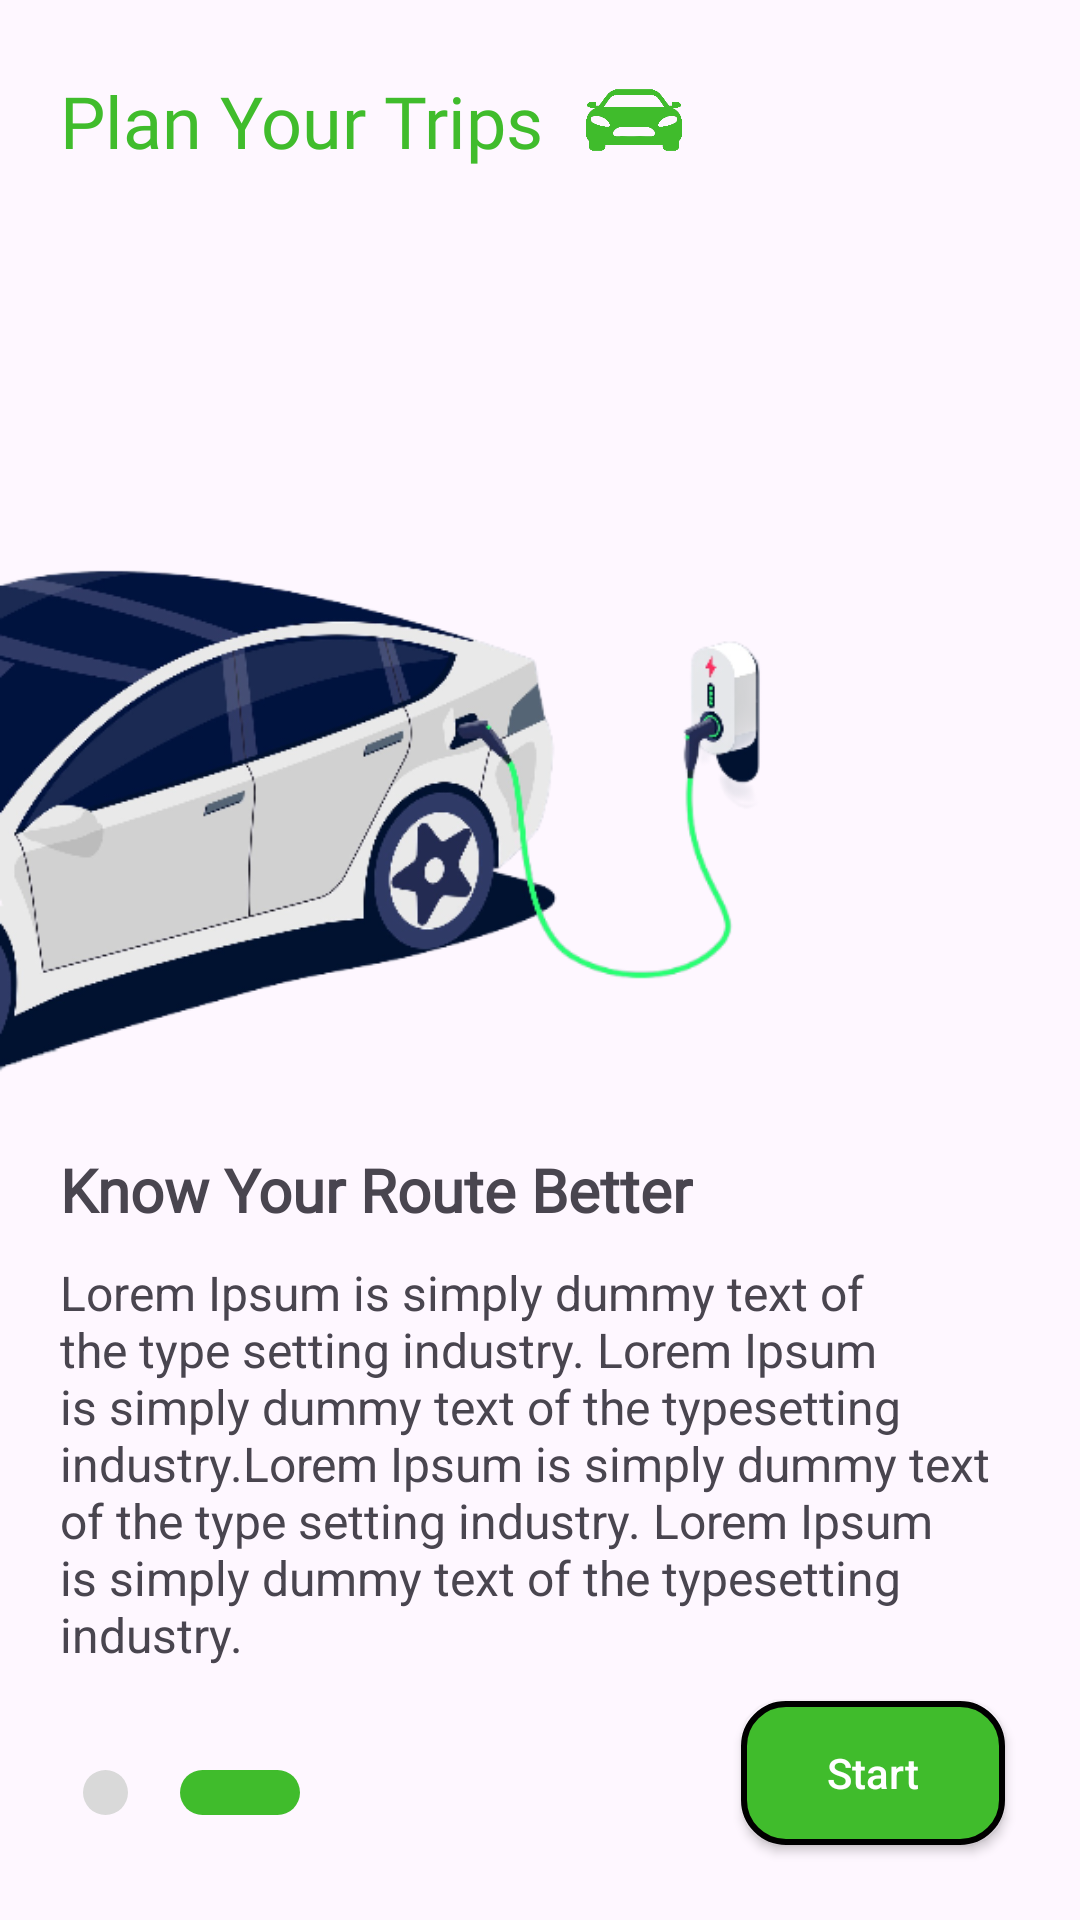

Icon bounding boxes for this 1080 × 1920 phone screenshot, format (x1, y1, x2, y2):
car: (586, 89, 682, 151)
